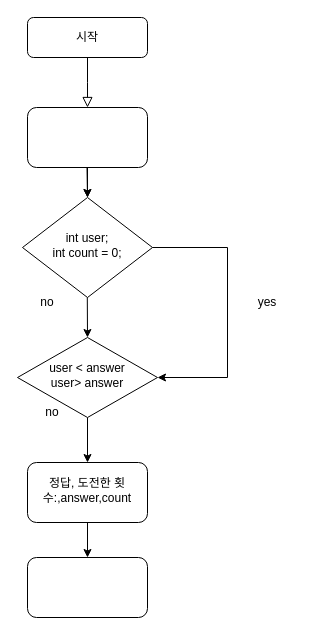
Some shapes in this 315 by 635 pixel diagram are drawn without their labels. Each missing label, with the box of its shape:
end: (26, 556, 148, 618)
int answer = ran.nextInt(100) + 1;: (26, 106, 148, 168)
